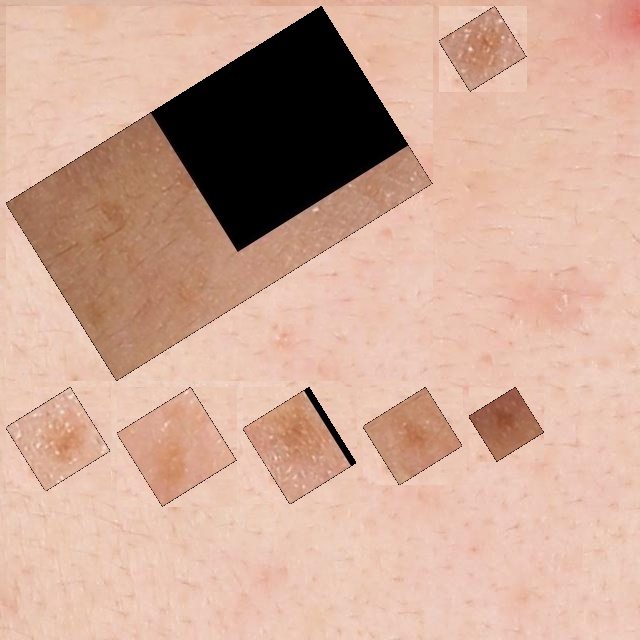melasma: (17, 17, 421, 369), (128, 398, 225, 495), (254, 398, 345, 493), (17, 398, 99, 480), (374, 398, 451, 474), (450, 17, 515, 80), (480, 398, 533, 450)
